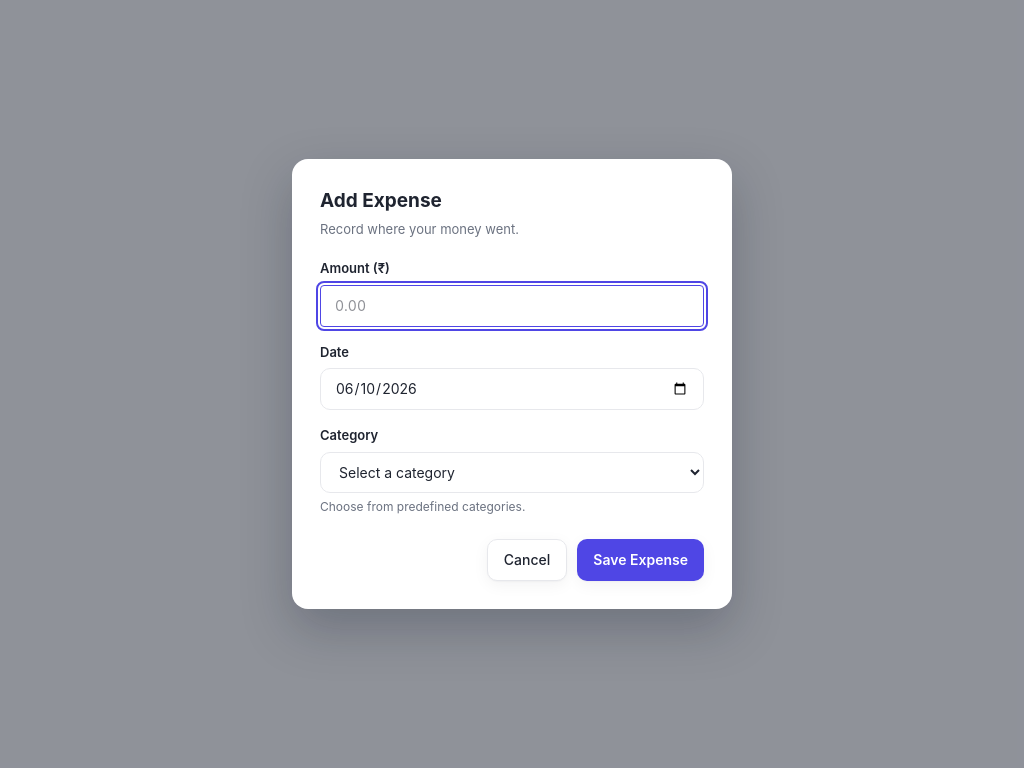
ExpenseModal (P7-2) › shows required-field errors and does not submit when the form is empty
This screenshot has width=1024, height=768.
Click the button "Save Expense". click: (641, 560)
box: [577,539,704,581]
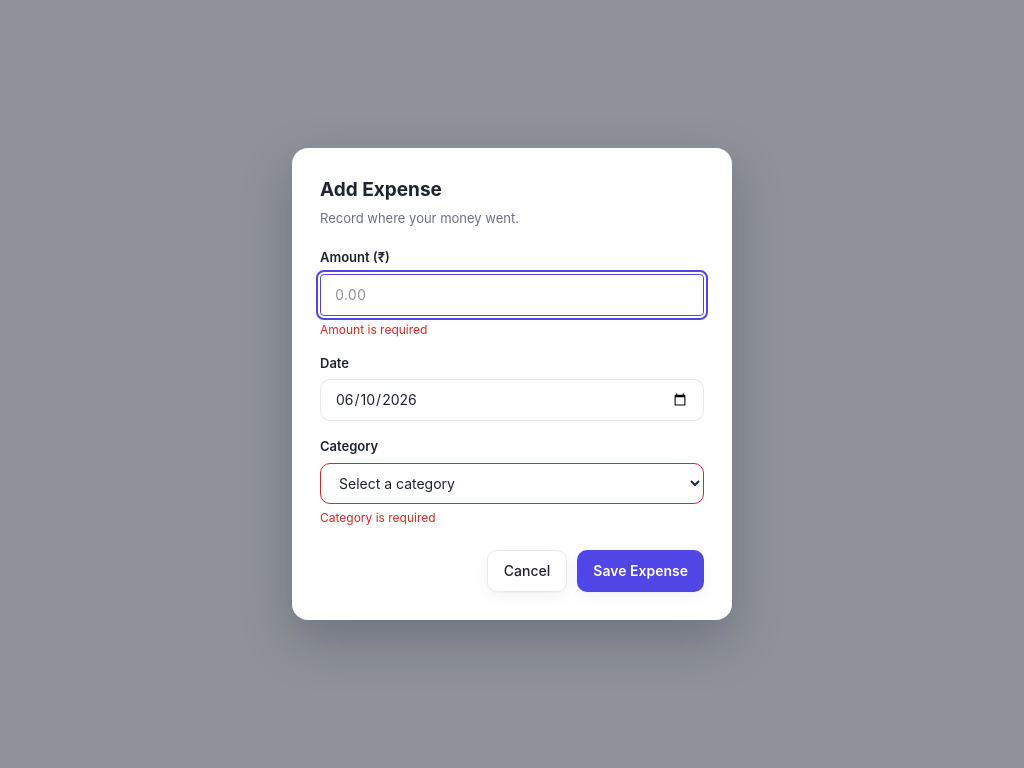
Check: the text "Amount is required" is shown, box [320,322,427,337]
Check: the text "Category is required" is shown, box [320,510,436,525]
